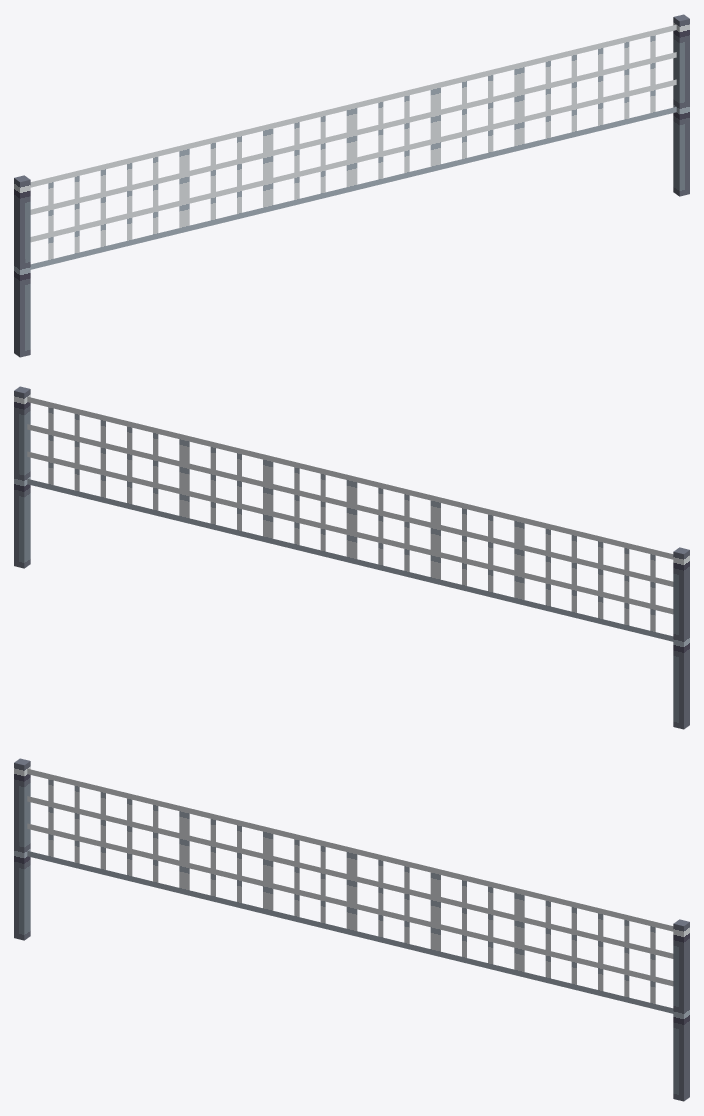
File: volleyball-net.gltf
3 views of the same model, one above another, from view 1: azimuth 30°, elevation 25°; view 2: azimuth 150°, elevation 25°; view 3: azimuth 330°, elevation 25° (orthographic).
Visible parts, largest first — view 1: cube (×10); view 2: cube (×10); view 3: cube (×10).
Part boxes in pixels (left/top/right/bottom): cube (×10): left=14, top=14, right=689, bottom=357; cube (×10): left=14, top=386, right=689, bottom=729; cube (×10): left=14, top=758, right=689, bottom=1101.
Size of the model in its own units: 6 by 1.5 by 0.0938.
1 material, 1 textured.
